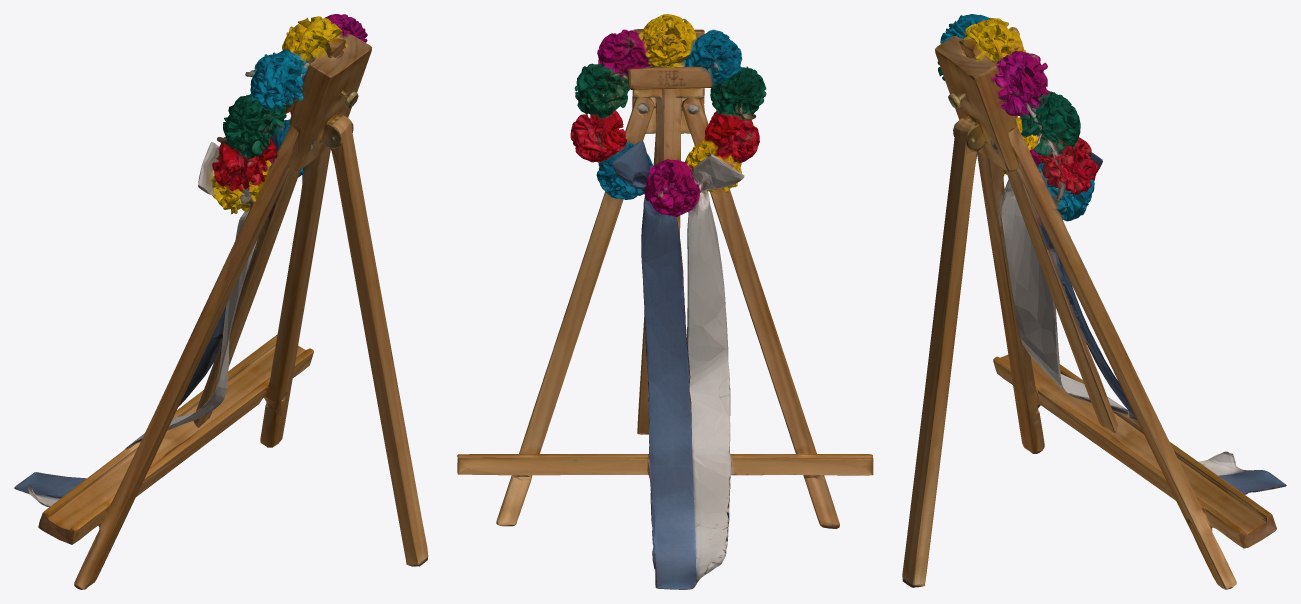
The model's file is 93447725-D165-3442-895F-D90039099DAB_2k.glb.
The picture shows the model from 3 angles, left to right: view 1: azimuth 30°, elevation 25°; view 2: azimuth 150°, elevation 25°; view 3: azimuth 270°, elevation 25°; orthographic projection. The views are drawn at different scales.
Parts seen in each view (by area): view 1: Pfingstrosenkranz Bunt_42k_2k; view 2: Pfingstrosenkranz Bunt_42k_2k; view 3: Pfingstrosenkranz Bunt_42k_2k.
Boxes of the visible parts, x1=… form: Pfingstrosenkranz Bunt_42k_2k: x1=14, y1=14, x2=428, y2=589; Pfingstrosenkranz Bunt_42k_2k: x1=457, y1=14, x2=873, y2=589; Pfingstrosenkranz Bunt_42k_2k: x1=902, y1=14, x2=1286, y2=589.
Bounding box in the file's own units: 0.3625 × 0.4841 × 0.3165.
1 material, 1 textured.
